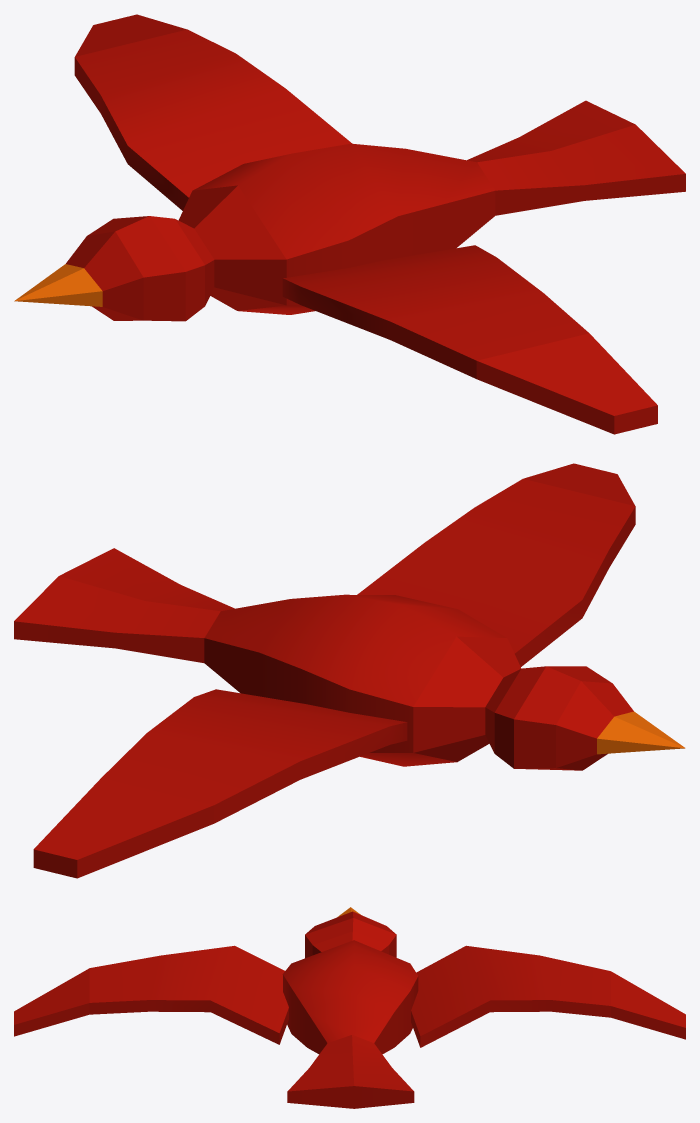
Rendered from Bird.fbx.
The picture shows the model from 3 angles, top to bottom: view 1: azimuth 30°, elevation 25°; view 2: azimuth 150°, elevation 25°; view 3: azimuth 270°, elevation 25°; orthographic projection. The views are drawn at different scales.
Parts seen in each view (by area): view 1: polySurface350, polySurface351, polySurface352; view 2: polySurface350, polySurface352, polySurface351; view 3: polySurface350, polySurface352, polySurface351.
Part boxes in pixels (bbox=[...]): polySurface350: bbox=[14, 100, 685, 321]; polySurface351: bbox=[282, 245, 657, 434]; polySurface352: bbox=[74, 14, 351, 210]; polySurface350: bbox=[14, 548, 685, 770]; polySurface352: bbox=[33, 689, 407, 878]; polySurface351: bbox=[357, 463, 635, 666]; polySurface350: bbox=[282, 907, 418, 1108]; polySurface352: bbox=[411, 945, 685, 1047]; polySurface351: bbox=[14, 945, 288, 1044].
Bounding box in the file's own units: 0.5878 × 0.1461 × 0.8651.
